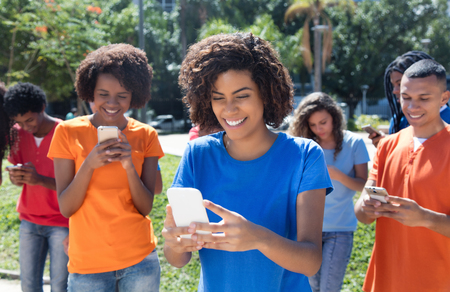without_mask: (212, 86, 256, 125), (97, 83, 130, 114), (402, 85, 432, 118), (310, 116, 330, 137), (18, 114, 38, 132)
